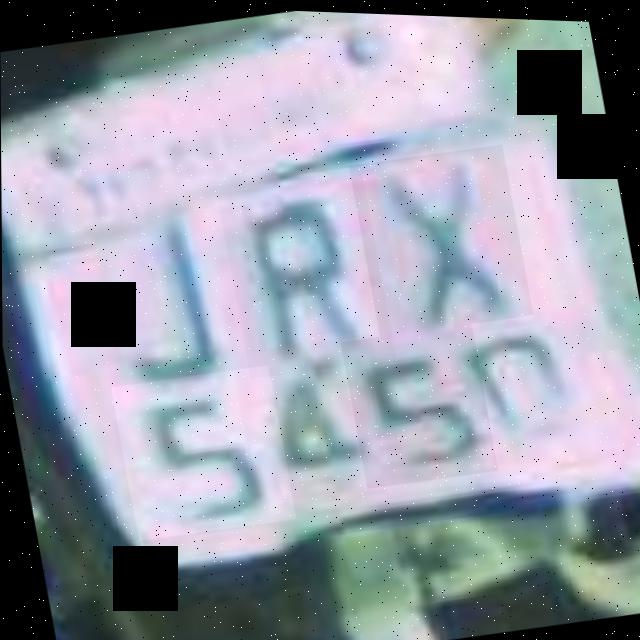4: (229, 326, 398, 506)
5: (110, 358, 296, 545), (339, 316, 497, 489)
J: (72, 198, 251, 411)
R: (216, 166, 395, 381)
X: (348, 136, 532, 338)
